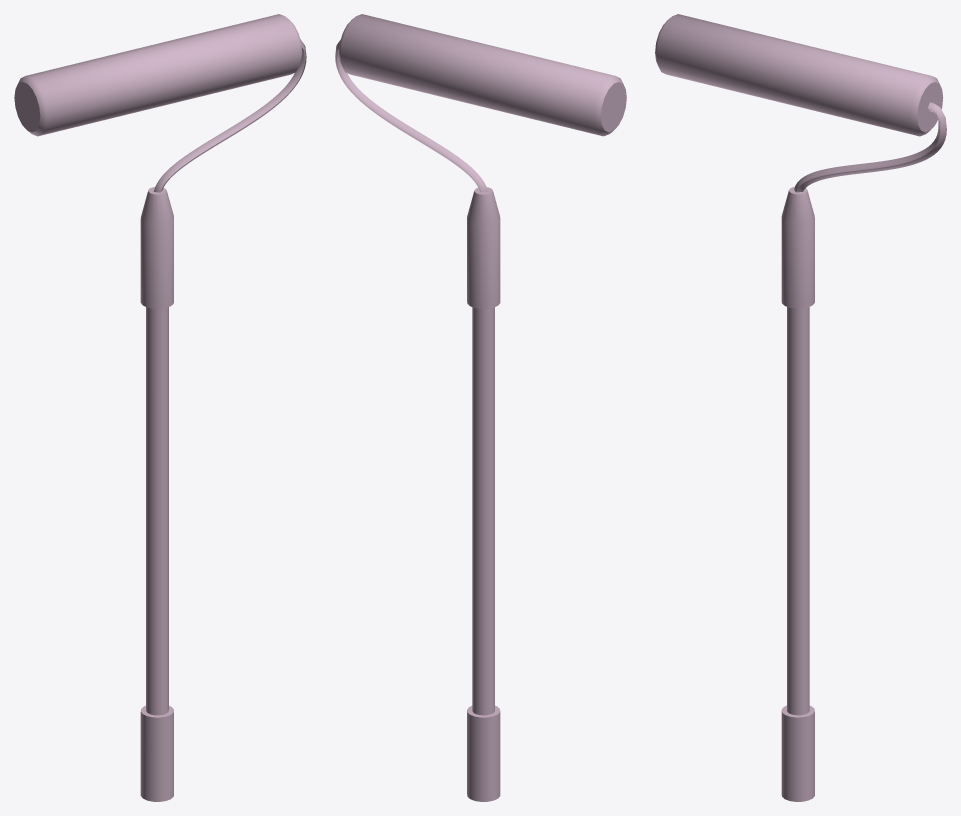
The model's file is Roller.obj.
The picture shows the model from 3 angles, left to right: view 1: azimuth 30°, elevation 25°; view 2: azimuth 150°, elevation 25°; view 3: azimuth 330°, elevation 25°; orthographic projection.
Visible parts, largest first — view 1: Circle; view 2: Circle; view 3: Circle.
Boxes of the visible parts, x1=… form: Circle: x1=14, y1=14, x2=306, y2=801; Circle: x1=335, y1=14, x2=626, y2=801; Circle: x1=655, y1=14, x2=946, y2=801.
Size of the model in its own units: 0.4872 by 1.25 by 0.0938.
